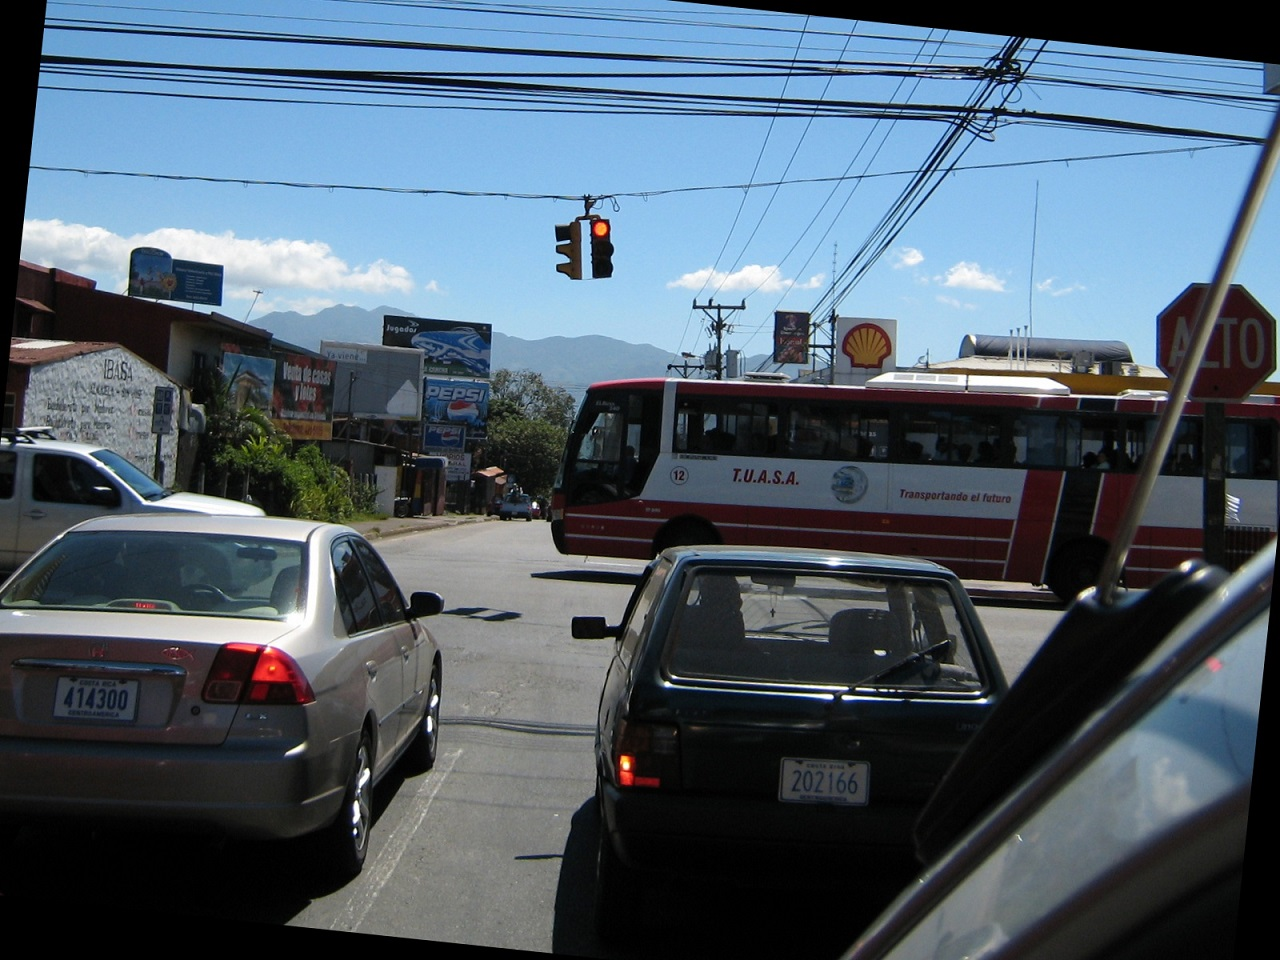traffic_light: (588, 218, 616, 280)
